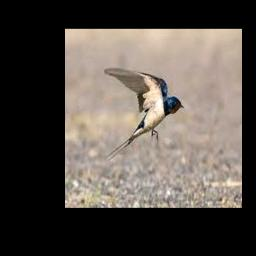Swallow: (104, 67, 184, 160)
